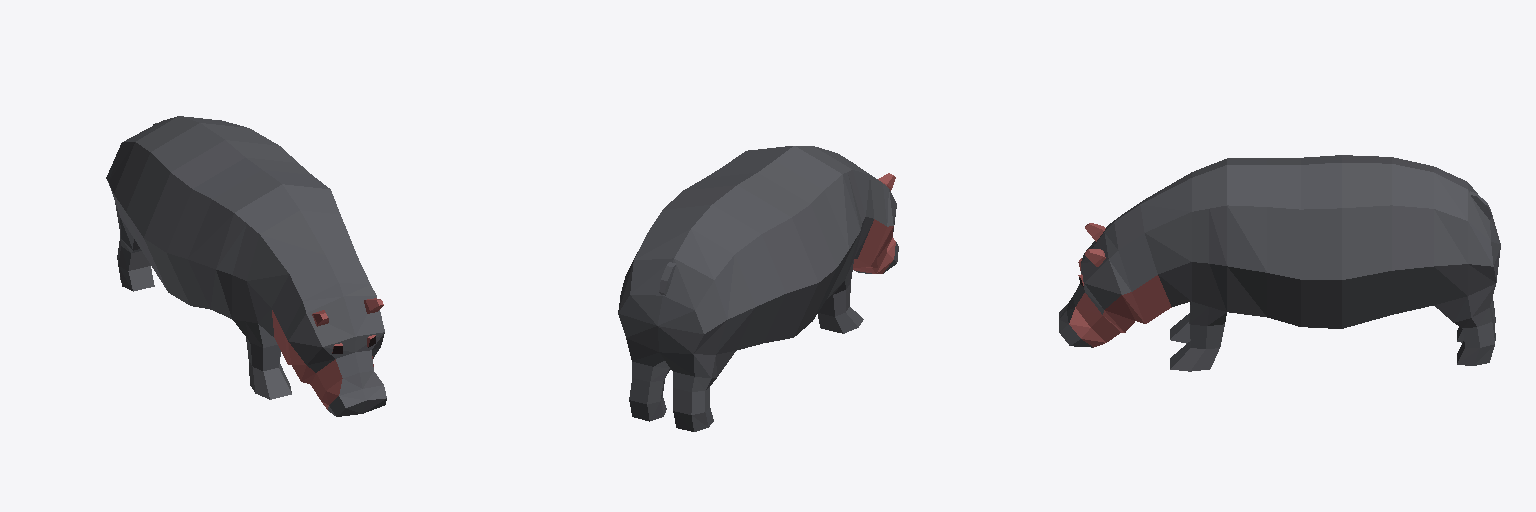
3 renders of one model, left to right at view 1: azimuth 30°, elevation 25°; view 2: azimuth 150°, elevation 25°; view 3: azimuth 270°, elevation 25°, orthographic.
Visible parts, largest first — view 1: Geo_Hippopotamus; view 2: Geo_Hippopotamus; view 3: Geo_Hippopotamus.
Part boxes in pixels (left/top/right/bottom): Geo_Hippopotamus: left=106, top=116, right=386, bottom=416; Geo_Hippopotamus: left=618, top=146, right=898, bottom=431; Geo_Hippopotamus: left=1059, top=155, right=1500, bottom=371.
Size of the model in its own units: 101 by 111 by 238.
1 materials, 1 textured.